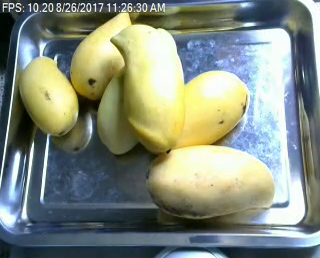Mango: (110, 24, 184, 152), (147, 147, 274, 216), (153, 69, 249, 154), (67, 9, 132, 97), (19, 56, 79, 136), (97, 63, 139, 154)
